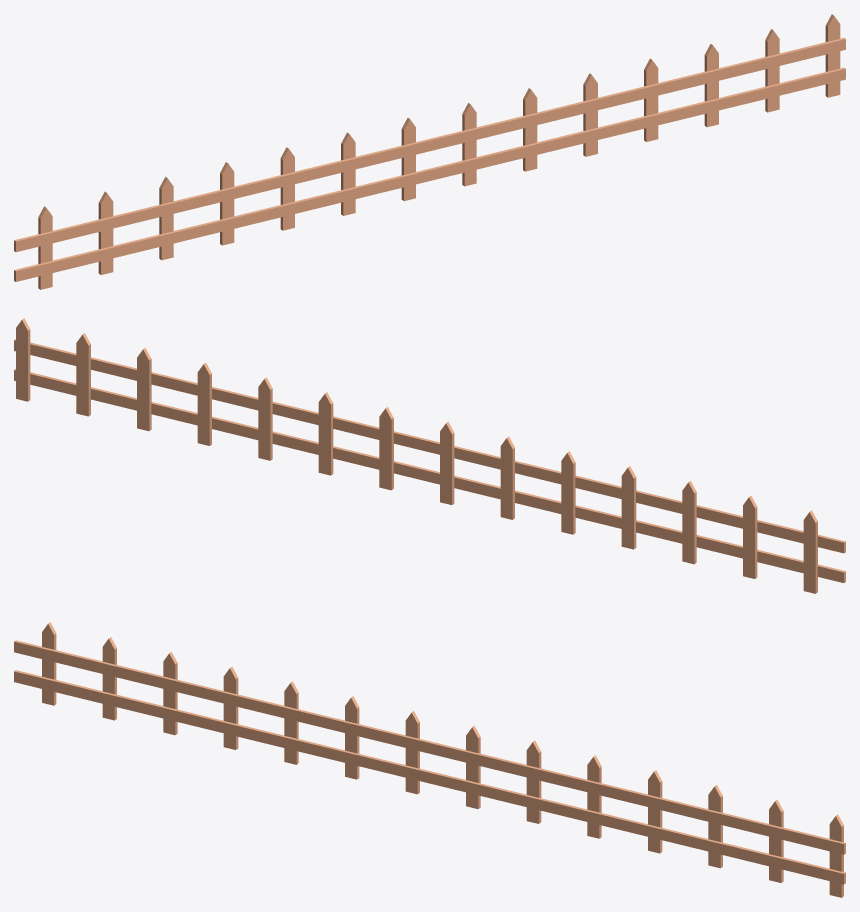
Rendered from Fence.fbx.
The picture shows the model from 3 angles, top to bottom: view 1: azimuth 30°, elevation 25°; view 2: azimuth 150°, elevation 25°; view 3: azimuth 330°, elevation 25°; orthographic projection.
Visible parts, largest first — view 1: Fenceplank1; view 2: Fenceplank1; view 3: Fenceplank1.
Part boxes in pixels (x1,y1,x2,y2): Fenceplank1: (14,14,845,289); Fenceplank1: (14,318,845,593); Fenceplank1: (14,622,845,897).
Size of the model in its own units: 1604 by 149 by 13.47.
